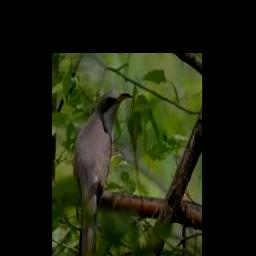Cuckoo: (74, 90, 132, 256)
